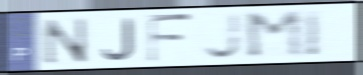F: (145, 12, 196, 65)
I: (303, 8, 323, 59)
J: (202, 11, 244, 61), (100, 16, 137, 62)
M: (242, 9, 308, 61)
N: (40, 15, 91, 67)
